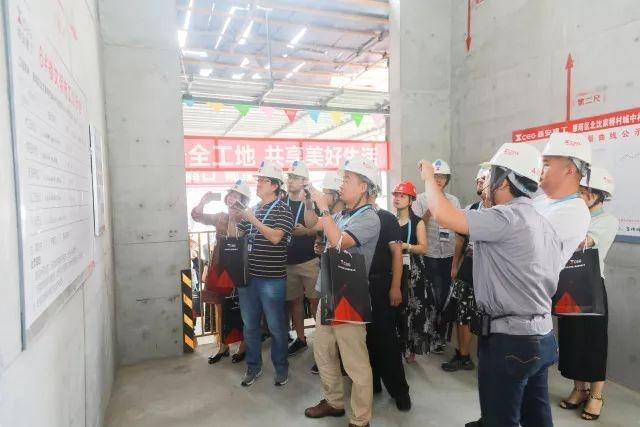helmet: (339, 154, 385, 191), (417, 157, 457, 175), (255, 160, 283, 185), (225, 178, 254, 198), (285, 159, 309, 181), (391, 181, 418, 197)
no_wear: (471, 206, 549, 336), (318, 209, 374, 294), (242, 205, 289, 280)
